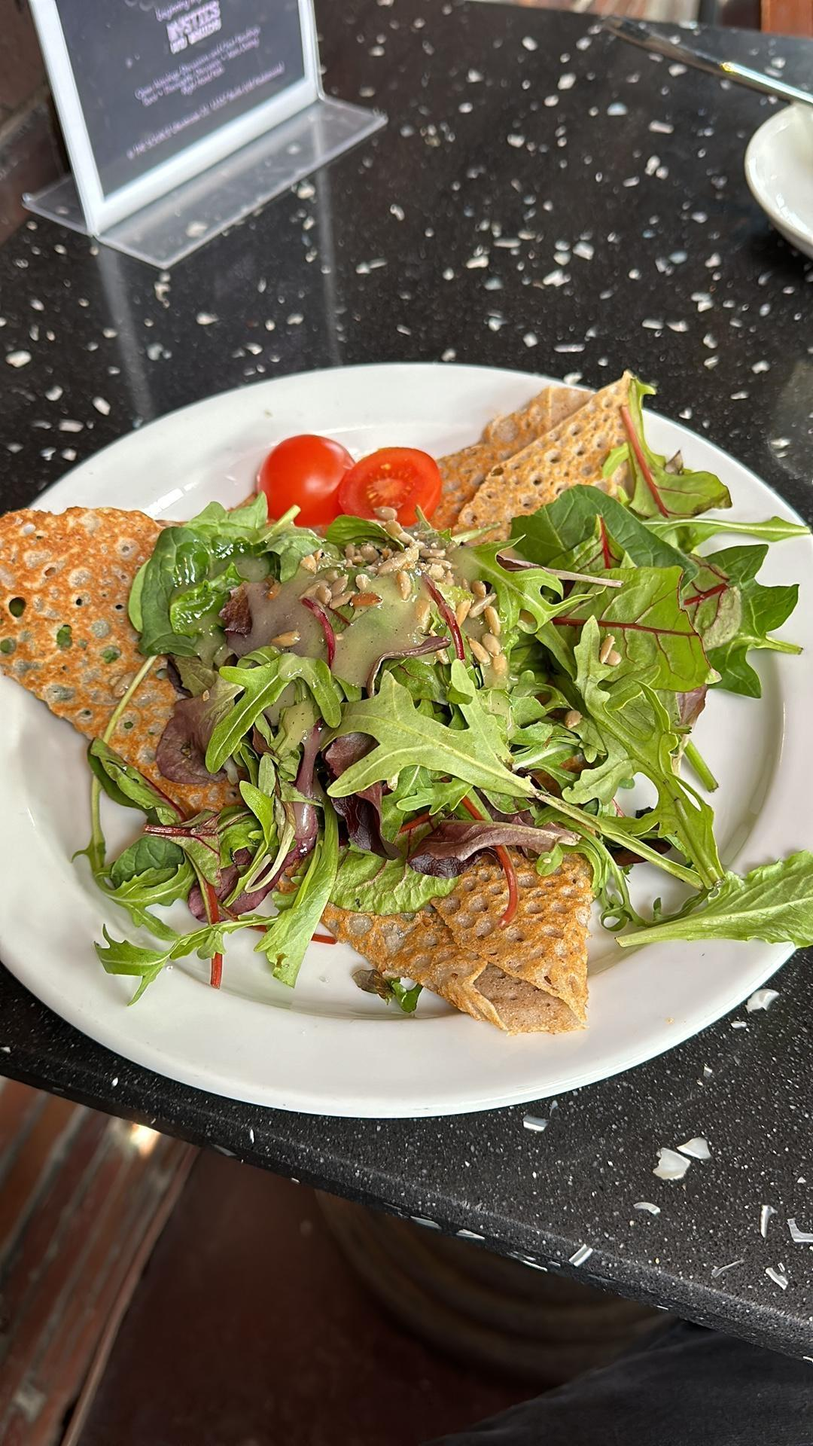lettuce: (336, 689, 708, 895), (397, 500, 597, 652), (187, 636, 353, 777), (502, 480, 706, 594), (144, 509, 311, 641), (391, 641, 560, 766), (626, 849, 808, 961), (111, 894, 268, 1004), (603, 403, 749, 519), (82, 738, 195, 852), (269, 792, 325, 983), (509, 715, 606, 804)
tomato: (256, 435, 364, 534), (337, 440, 447, 535)
